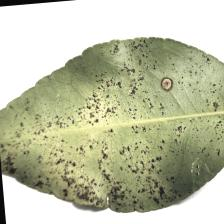canker: (39, 91, 149, 186)
